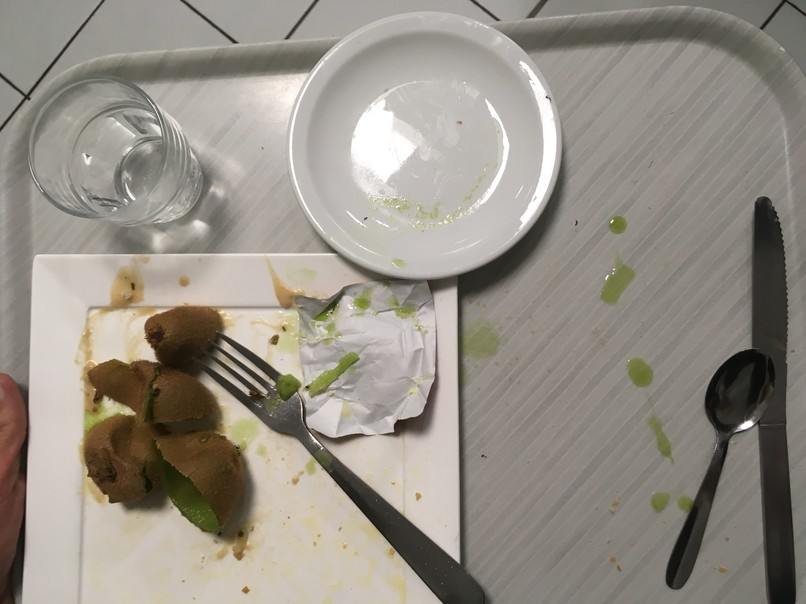cup: (14, 71, 208, 227)
cutlery: (676, 332, 772, 593), (744, 192, 801, 604), (191, 320, 315, 442)
orga: (83, 302, 249, 528)
trash: (294, 277, 434, 436)
